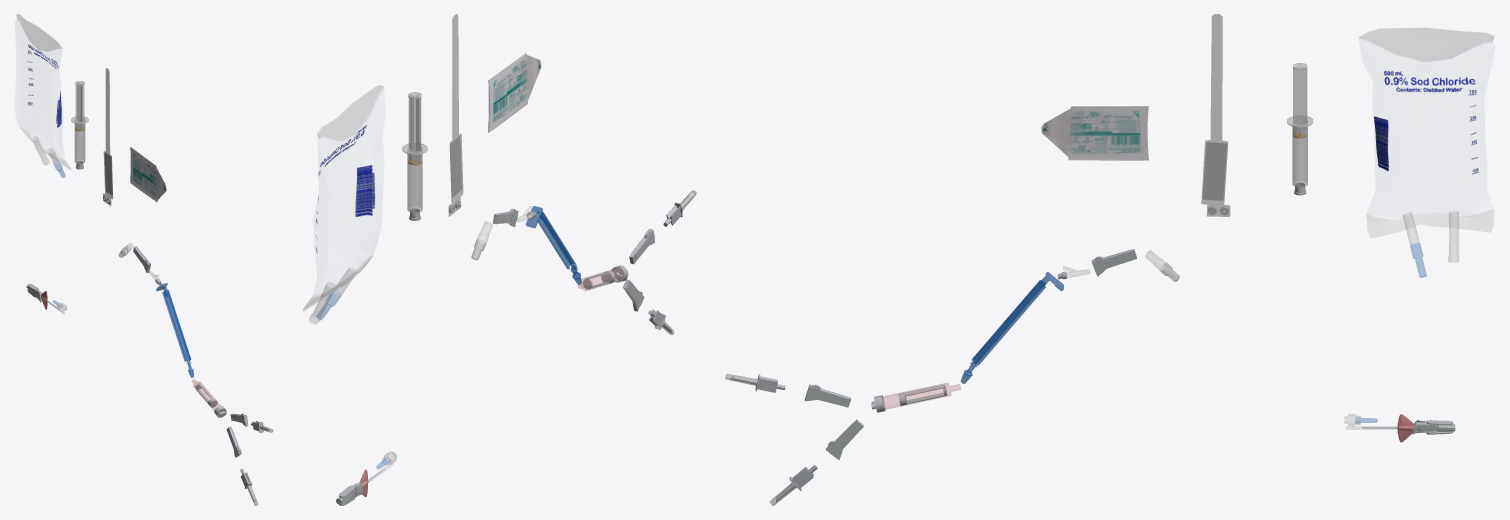
Rendered from perfusion.glb.
The picture shows the model from 3 angles, left to right: view 1: azimuth 30°, elevation 25°; view 2: azimuth 150°, elevation 25°; view 3: azimuth 270°, elevation 25°; orthographic projection. The views are drawn at different scales.
Parts seen in each view (by area): view 1: WaterBag, sticker_package, Wristband, Tube, Brace, Pusher, Filter; view 2: WaterBag, sticker_package, Wristband, Tube, Pusher, Filter, Brace, Catheter1_1x25mm; view 3: WaterBag, sticker_package, Wristband, Tube, Filter, Pusher, Brace, Catheter1_1x25mm.
Boxes of the visible parts, x1,y1,x2,y2 form: WaterBag: (16, 14, 71, 177); sticker_package: (130, 147, 166, 202); Wristband: (103, 68, 113, 205); Tube: (71, 116, 88, 169); Brace: (162, 290, 191, 361); Pusher: (75, 81, 84, 131); Filter: (192, 379, 226, 417); WaterBag: (302, 85, 383, 324); sticker_package: (488, 53, 541, 132); Wristband: (448, 14, 463, 216); Tube: (402, 143, 427, 220); Pusher: (408, 92, 421, 165); Filter: (577, 265, 628, 290); Brace: (537, 211, 576, 270); Catheter1_1x25mm: (336, 468, 384, 505); WaterBag: (1359, 27, 1494, 277); sticker_package: (1041, 106, 1148, 160); Wristband: (1201, 14, 1230, 216); Tube: (1287, 115, 1313, 195); Filter: (871, 383, 960, 412); Pusher: (1293, 63, 1307, 138); Brace: (971, 280, 1045, 365); Catheter1_1x25mm: (1362, 414, 1455, 442).
Size of the model in its own units: 0.116 by 0.9673 by 1.37.
1 material, 1 textured.
